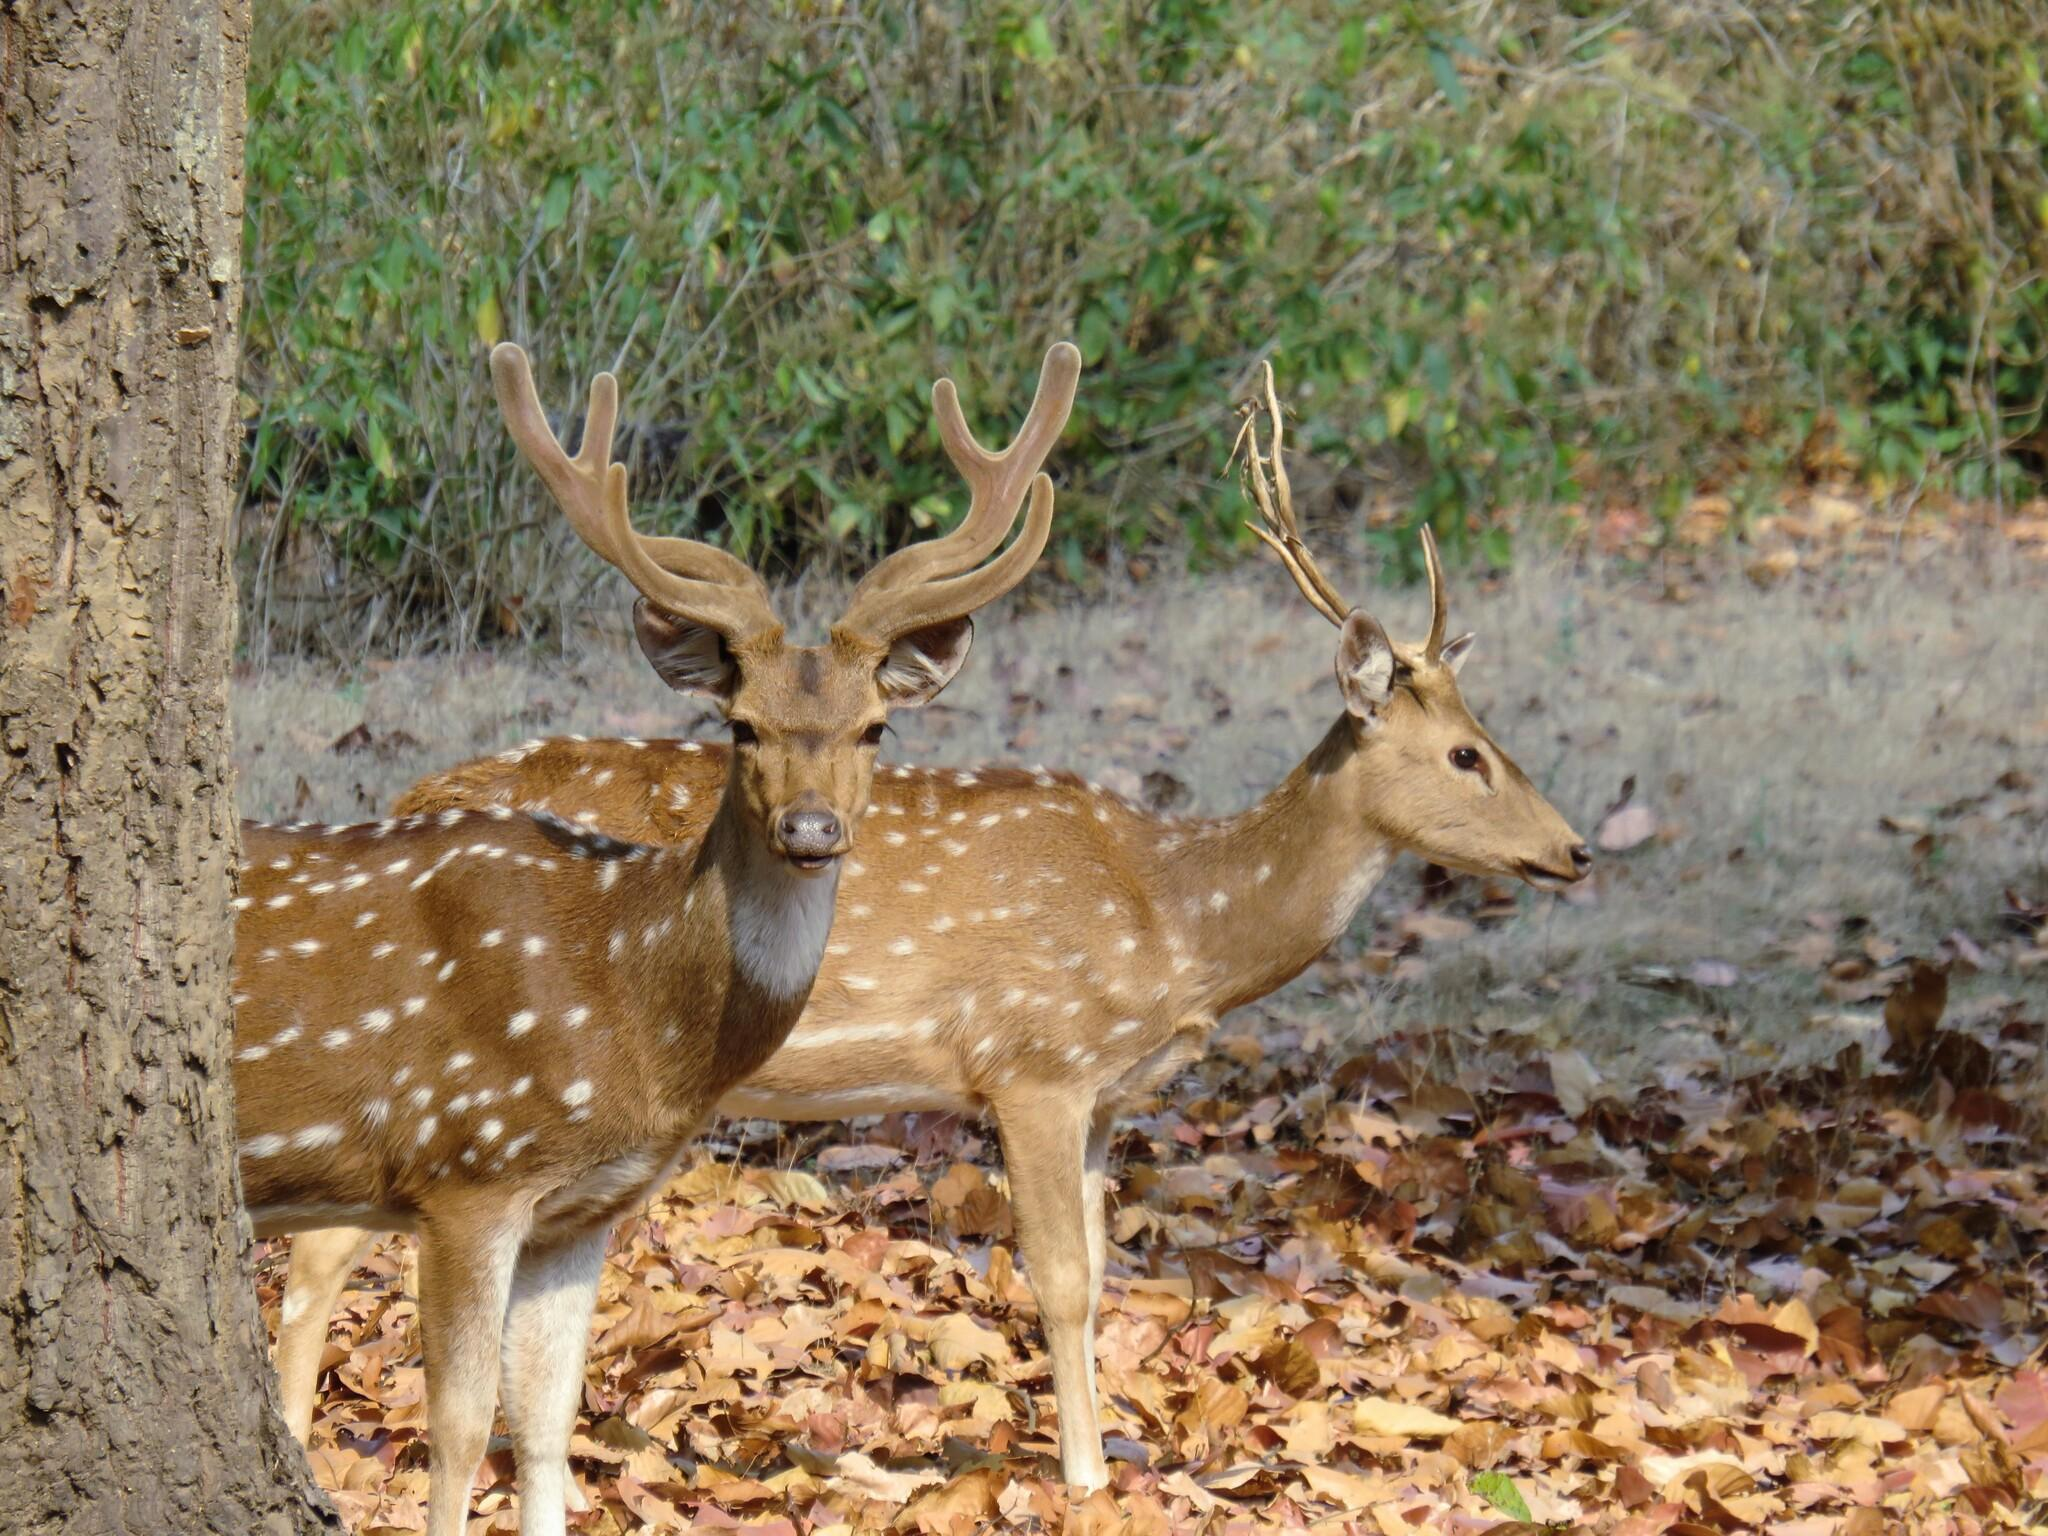Deer: (232, 344, 1080, 1534), (722, 363, 1592, 1486)
